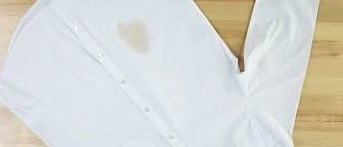coffee: (117, 20, 153, 54)
